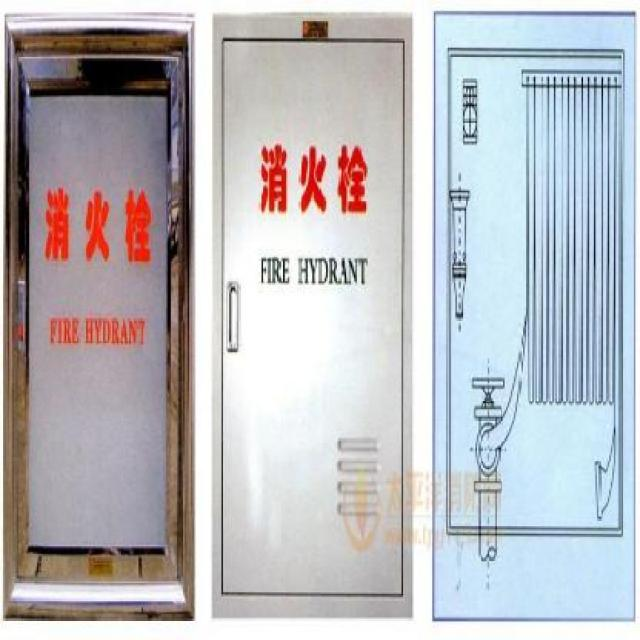firehydrant: (430, 5, 638, 630), (211, 9, 415, 625), (2, 8, 198, 626)
